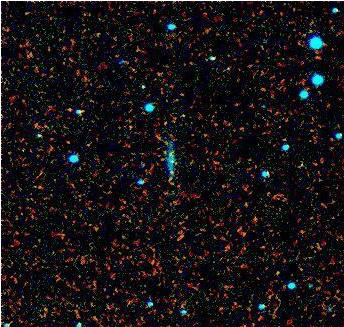star: (53, 94, 83, 124)
